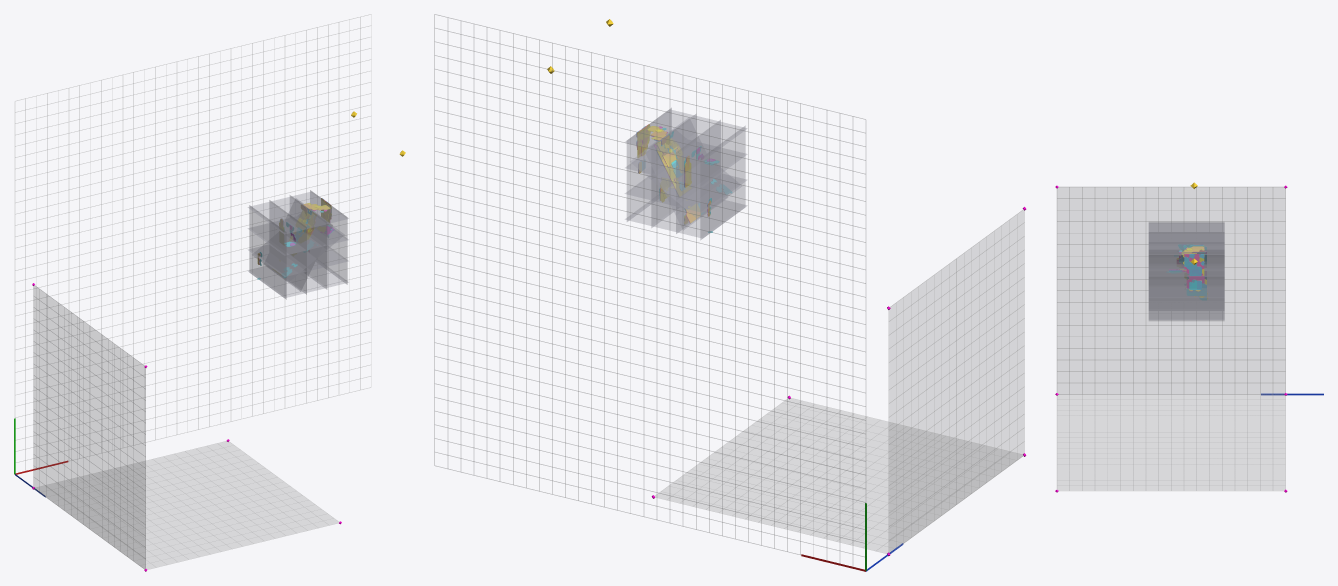
The model's file is redfuji_storm_thickness_50pct.obj.
3 renders of one model, left to right at view 1: azimuth 30°, elevation 25°; view 2: azimuth 150°, elevation 25°; view 3: azimuth 270°, elevation 25°, orthographic. The views are drawn at different scales.
Visible parts, largest first — view 1: wall_A, wall_B, grid_floor, panel_A0, panel_B3, panel_A1, panel_B0, panel_A3, panel_B2, panel_D1, grid_wallA, panel_A2 (+4 smaller); view 2: wall_A, wall_B, grid_floor, panel_A0, panel_B3, grid_wallA, panel_B0, panel_A1, grid_wallB, panel_A3, panel_B2, Y (+4 smaller); view 3: wall_A, wall_B, panel_A3, grid_wallA, panel_A2, panel_B3, grid_wallB, panel_B0, C, panel_B1, panel_A0, panel_A1 (+3 smaller).
Boxes of the visible parts, bbox=[...] form: wall_A: bbox=[34, 286, 145, 568]; wall_B: bbox=[36, 441, 338, 569]; grid_floor: bbox=[15, 14, 371, 470]; panel_A0: bbox=[249, 205, 286, 299]; panel_B3: bbox=[248, 192, 348, 234]; panel_A1: bbox=[269, 200, 306, 294]; panel_B0: bbox=[248, 267, 348, 297]; panel_A3: bbox=[310, 190, 347, 284]; panel_B2: bbox=[248, 223, 348, 255]; panel_D1: bbox=[252, 223, 344, 281]; grid_wallA: bbox=[33, 286, 145, 565]; panel_A2: bbox=[290, 195, 326, 289]; wall_A: bbox=[889, 210, 1024, 552]; wall_B: bbox=[655, 398, 1022, 553]; grid_floor: bbox=[434, 14, 865, 556]; panel_A0: bbox=[700, 126, 745, 239]; panel_B3: bbox=[625, 110, 747, 160]; grid_wallA: bbox=[888, 210, 1024, 548]; panel_B0: bbox=[625, 200, 747, 238]; panel_A1: bbox=[676, 120, 720, 233]; grid_wallB: bbox=[655, 398, 1021, 552]; panel_A3: bbox=[627, 108, 671, 221]; panel_B2: bbox=[625, 148, 747, 186]; Y: bbox=[637, 124, 711, 223]; wall_A: bbox=[1057, 187, 1285, 393]; wall_B: bbox=[1057, 394, 1285, 490]; panel_A3: bbox=[1149, 252, 1224, 320]; grid_wallA: bbox=[1057, 187, 1285, 394]; panel_A2: bbox=[1149, 242, 1224, 308]; panel_B3: bbox=[1149, 223, 1224, 254]; grid_wallB: bbox=[1057, 394, 1285, 490]; panel_B0: bbox=[1149, 309, 1224, 319]; C: bbox=[1167, 244, 1206, 300]; panel_B1: bbox=[1149, 287, 1224, 297]; panel_A0: bbox=[1149, 222, 1224, 231]; panel_A1: bbox=[1149, 232, 1224, 241].
Bounding box in the file's own units: 3318 × 3318 × 2115.
